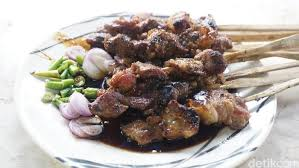sate: (39, 2, 258, 148)
